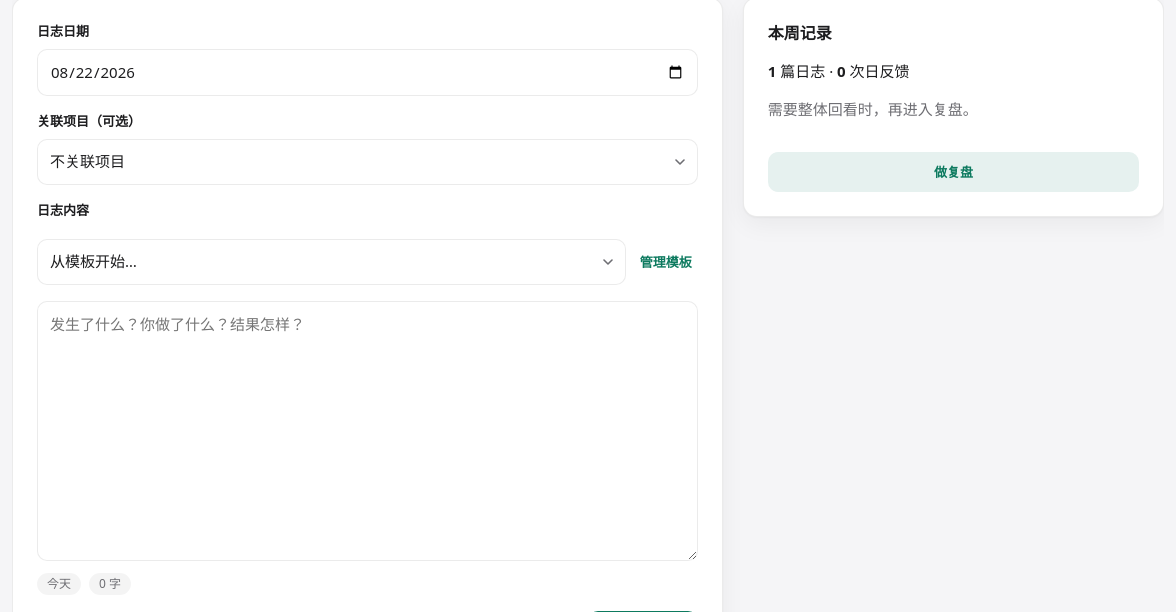
Test: TodayPage › shows the generated daily review without forcing a history jump
The image size is (1176, 612).
Type "新内容" into the text box named "日志内容" at (367, 431), box x1=37 y1=301 x2=698 y2=561
(page scrolled)
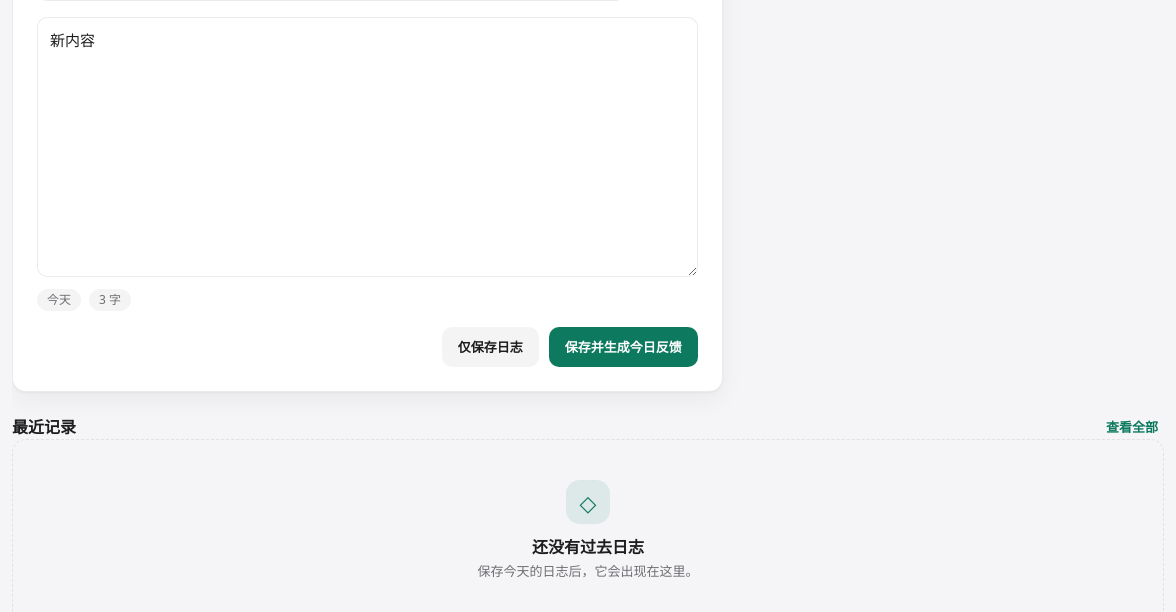
Click the button "保存并生成今日反馈" at (623, 347), box x1=549 y1=327 x2=698 y2=367
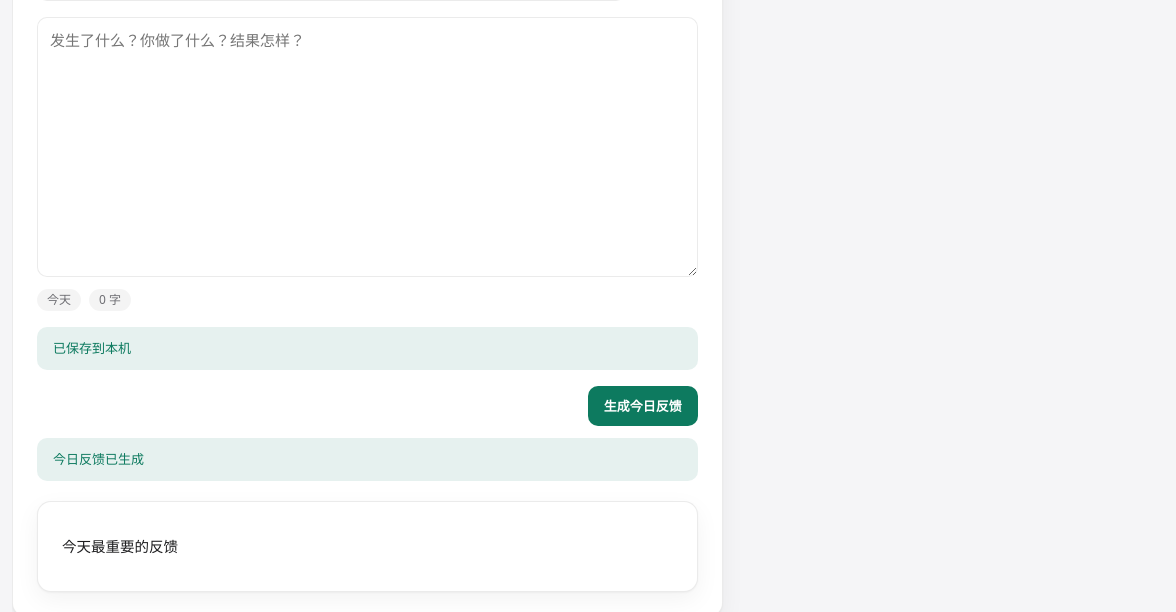
Expected: the text "今天最重要的反馈" is shown, x1=62 y1=536 x2=178 y2=556
